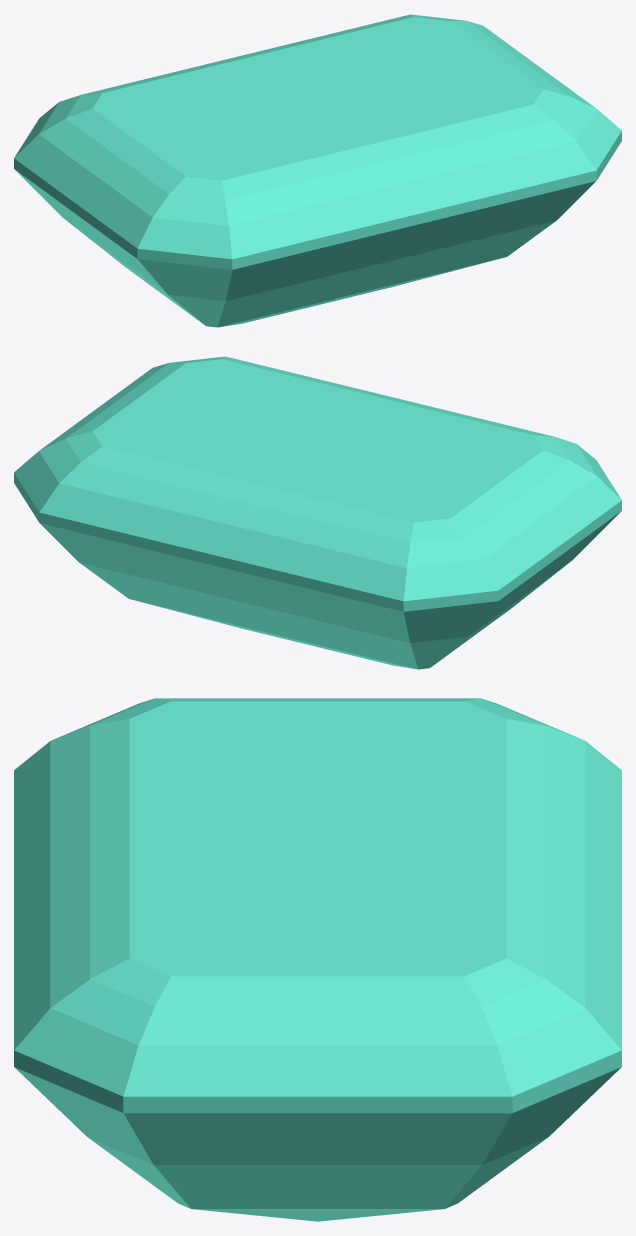
File: gema.glb
The picture shows the model from 3 angles, top to bottom: view 1: azimuth 30°, elevation 25°; view 2: azimuth 150°, elevation 25°; view 3: azimuth 270°, elevation 25°; orthographic projection. The views are drawn at different scales.
Visible parts, largest first — view 1: Gema; view 2: Gema; view 3: Gema.
Part boxes in pixels (x1,y1,x2,y2): Gema: (14,14,621,327); Gema: (14,356,621,669); Gema: (14,698,621,1221).
Bounding box in the file's own units: 0.0145 × 0.0059 × 0.01.
